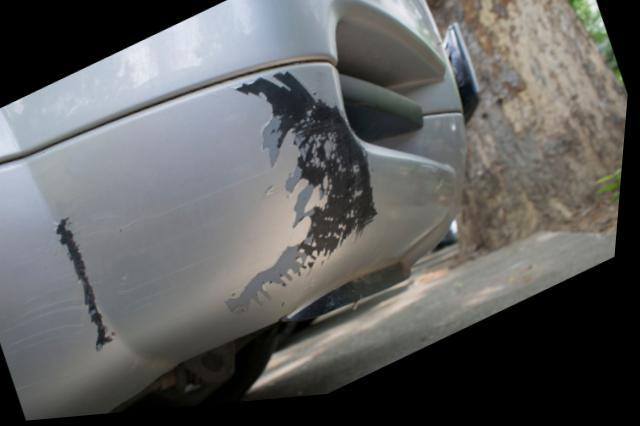scratch: (1, 75, 382, 366)
